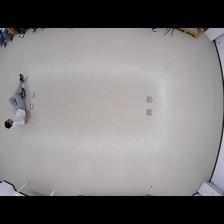fall: (2, 72, 31, 131)
